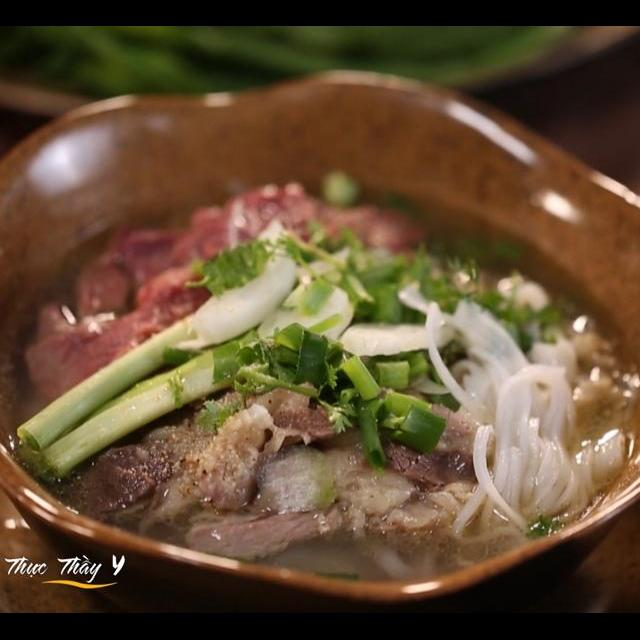banh pho: (448, 353, 622, 568)
pho bo: (0, 93, 640, 613)
thit bo: (46, 396, 279, 542), (171, 444, 422, 572), (19, 258, 220, 404), (156, 174, 432, 266)
